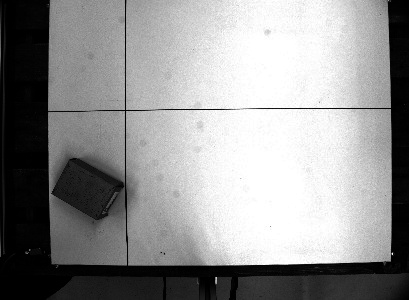b6: (49, 156, 124, 222)
